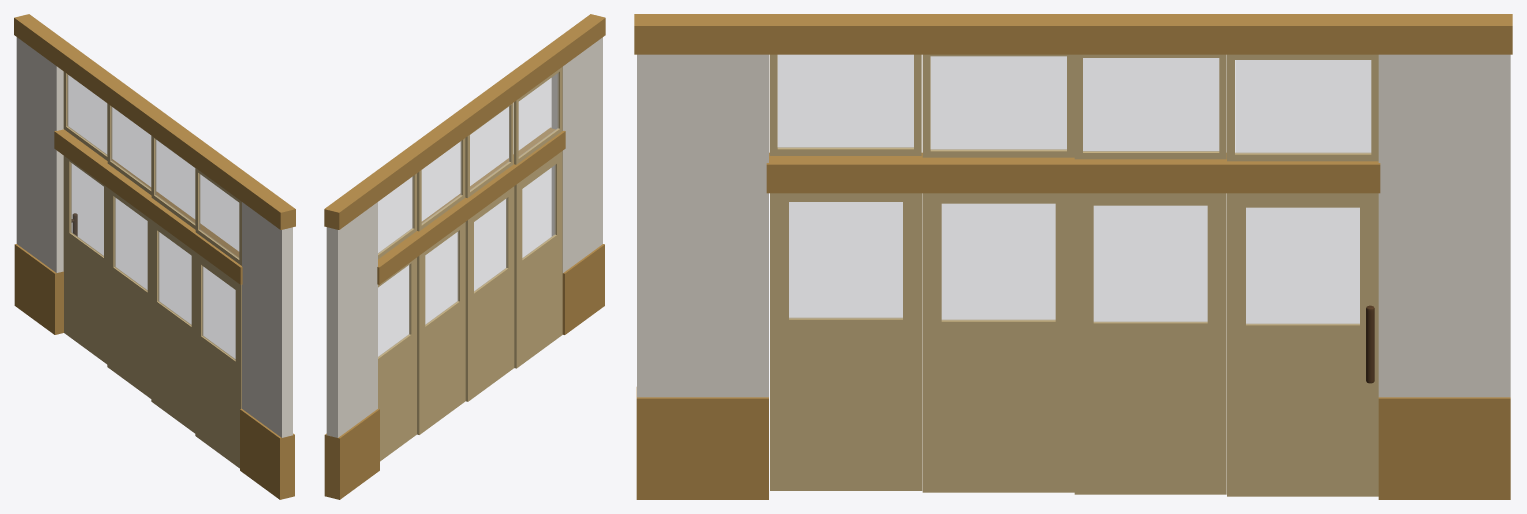
File: 教室入口.fbx
The picture shows the model from 3 angles, left to right: view 1: azimuth 30°, elevation 25°; view 2: azimuth 150°, elevation 25°; view 3: azimuth 270°, elevation 25°; orthographic projection. The views are drawn at different scales.
Parts seen in each view (by area): view 1: 壁上02, 壁上01, 上の窓枠.001, 扉04, 扉03, 扉02, 扉01, 上の窓枠, 02, 壁下01, 窓03, 窓04 (+10 smaller); view 2: 壁上01, 壁上02, 上の窓枠.001, 扉03, 扉04, 扉02, 上の窓枠, 扉01, 壁下01, 02, 窓04, 窓03 (+10 smaller); view 3: 壁上01, 壁上02, 上の窓枠.001, 扉02, 扉03, 扉01, 扉04, 上の窓枠, 02, 壁下01, 窓01, 窓04 (+10 smaller).
Boxes of the visible parts, x1=… form: 壁上02: x1=242, y1=202, x2=292, y2=437; 壁上01: x1=16, y1=37, x2=63, y2=272; 上の窓枠.001: x1=14, y1=14, x2=295, y2=229; 扉04: x1=195, y1=252, x2=241, y2=468; 扉03: x1=151, y1=220, x2=195, y2=433; 扉02: x1=107, y1=187, x2=151, y2=398; 扉01: x1=63, y1=156, x2=107, y2=364; 上の窓枠: x1=54, y1=129, x2=242, y2=284; 02: x1=240, y1=408, x2=294, y2=499; 壁下01: x1=14, y1=244, x2=63, y2=334; 窓03: x1=158, y1=231, x2=191, y2=325; 窓04: x1=202, y1=266, x2=235, y2=359; 壁上01: x1=326, y1=202, x2=377, y2=437; 壁上02: x1=551, y1=37, x2=602, y2=272; 上の窓枠.001: x1=324, y1=14, x2=605, y2=229; 扉03: x1=465, y1=186, x2=514, y2=401; 扉04: x1=514, y1=151, x2=562, y2=368; 扉02: x1=417, y1=222, x2=465, y2=434; 上の窓枠: x1=377, y1=127, x2=565, y2=284; 扉01: x1=378, y1=257, x2=416, y2=461; 壁下01: x1=324, y1=408, x2=379, y2=499; 02: x1=562, y1=244, x2=604, y2=334; 窓04: x1=522, y1=165, x2=555, y2=258; 窓03: x1=474, y1=198, x2=507, y2=291; 壁上01: x1=1378, y1=54, x2=1510, y2=397; 壁上02: x1=637, y1=54, x2=768, y2=397; 上の窓枠.001: x1=634, y1=14, x2=1512, y2=54; 扉02: x1=1074, y1=193, x2=1226, y2=494; 扉03: x1=922, y1=193, x2=1074, y2=492; 扉01: x1=1227, y1=193, x2=1378, y2=496; 扉04: x1=770, y1=193, x2=922, y2=490; 上の窓枠: x1=766, y1=152, x2=1380, y2=193; 02: x1=636, y1=387, x2=768, y2=499; 壁下01: x1=1378, y1=397, x2=1510, y2=499; 窓01: x1=1246, y1=208, x2=1359, y2=324; 窓04: x1=789, y1=202, x2=902, y2=318.
Bounding box in the file's own units: 0.5779 × 7.92 × 13.31.
